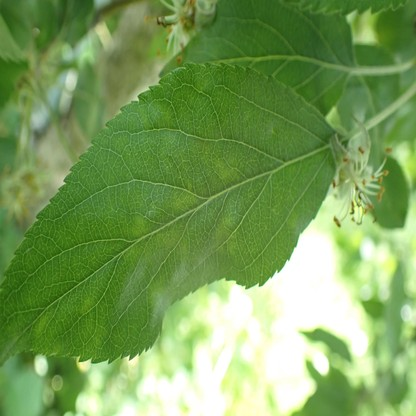rust: (175, 56, 181, 62)
scab: (213, 220, 233, 257), (172, 191, 197, 213), (212, 158, 235, 178), (79, 295, 96, 314), (36, 313, 49, 337), (132, 217, 145, 237)
